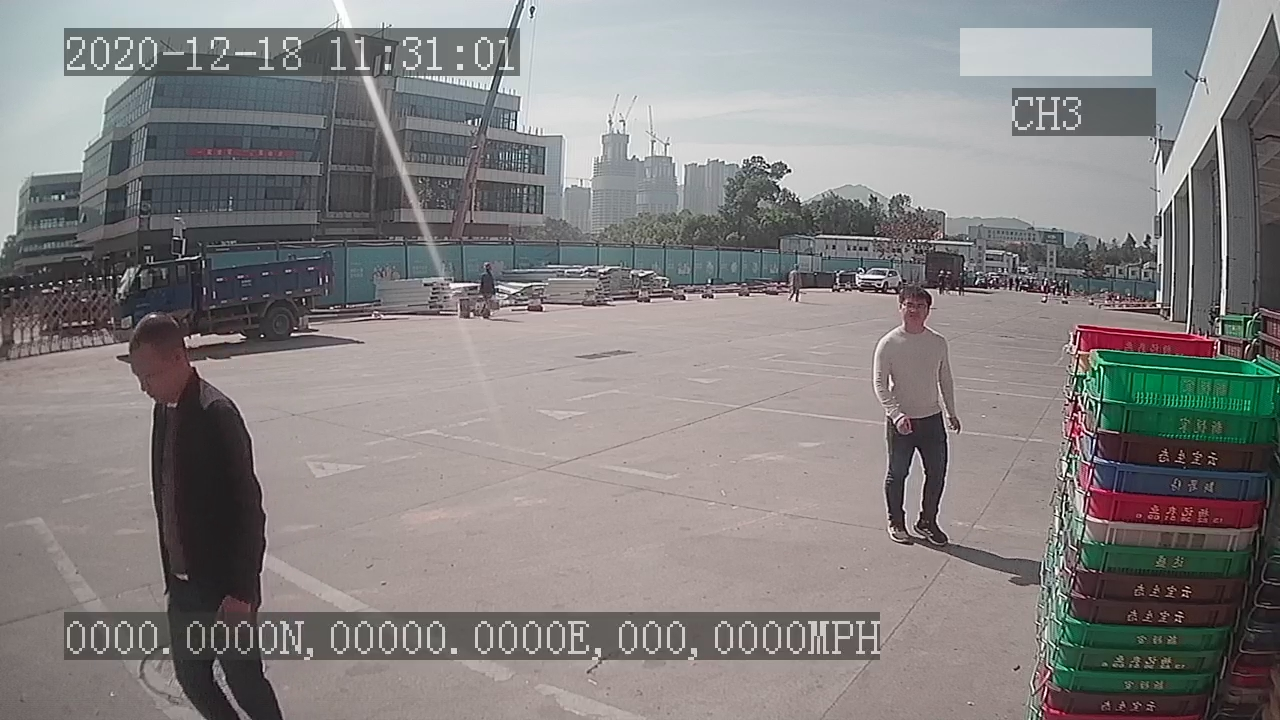person: (869, 284, 967, 551)
